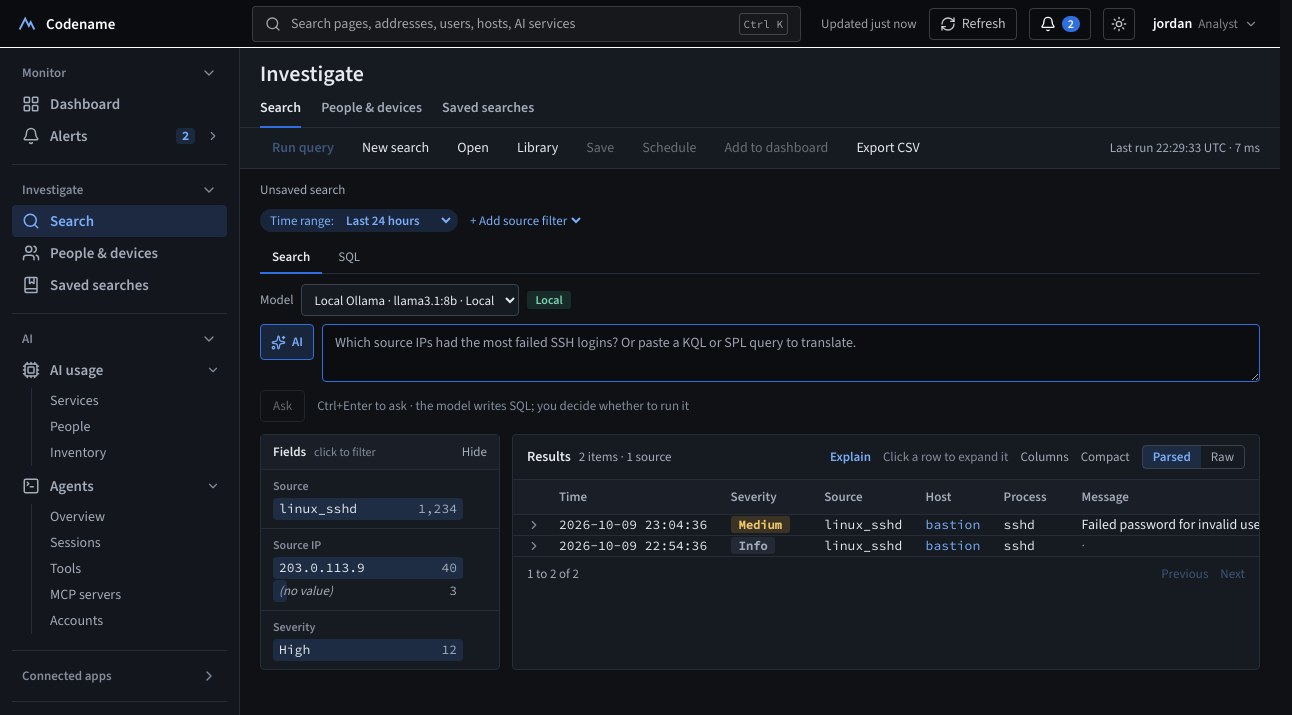
Test: Ask › explains a classification block
Select "Cloud · gpt-x · Cloud" in the dropdown labelled "Model" at (410, 300), box [302,284,520,316]
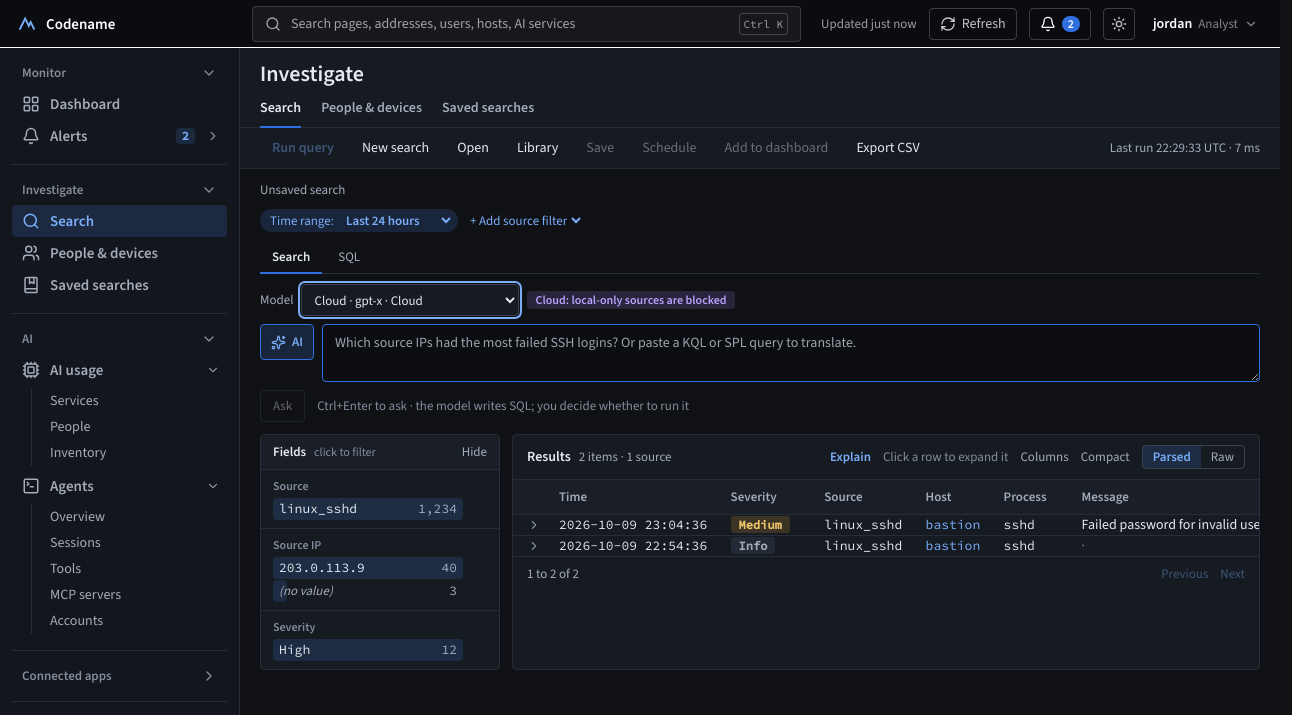
Expected: the text "Cloud: local-only sources are blocked" is shown, [528,291,735,309]
Type "failed logins" into the text box named "Question" at (791, 353), box [322,324,1260,382]
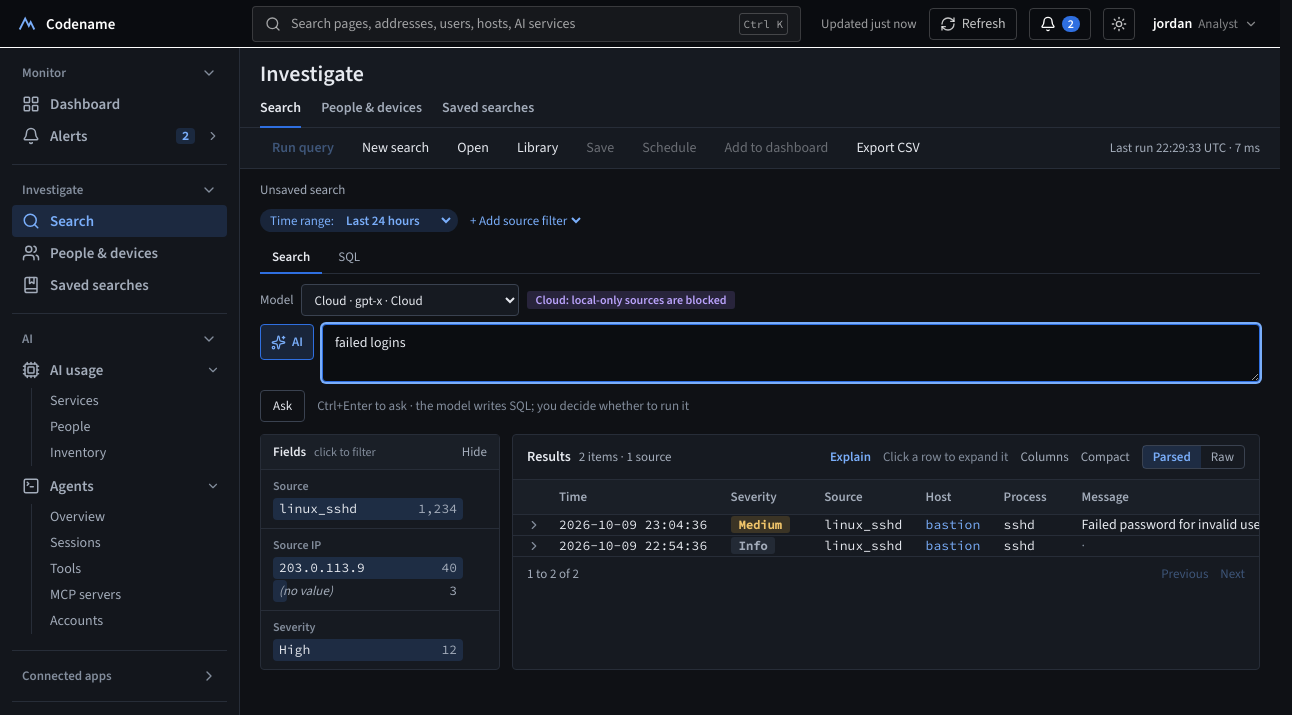
Click the button "Ask" at (283, 406), box [260,390,305,422]
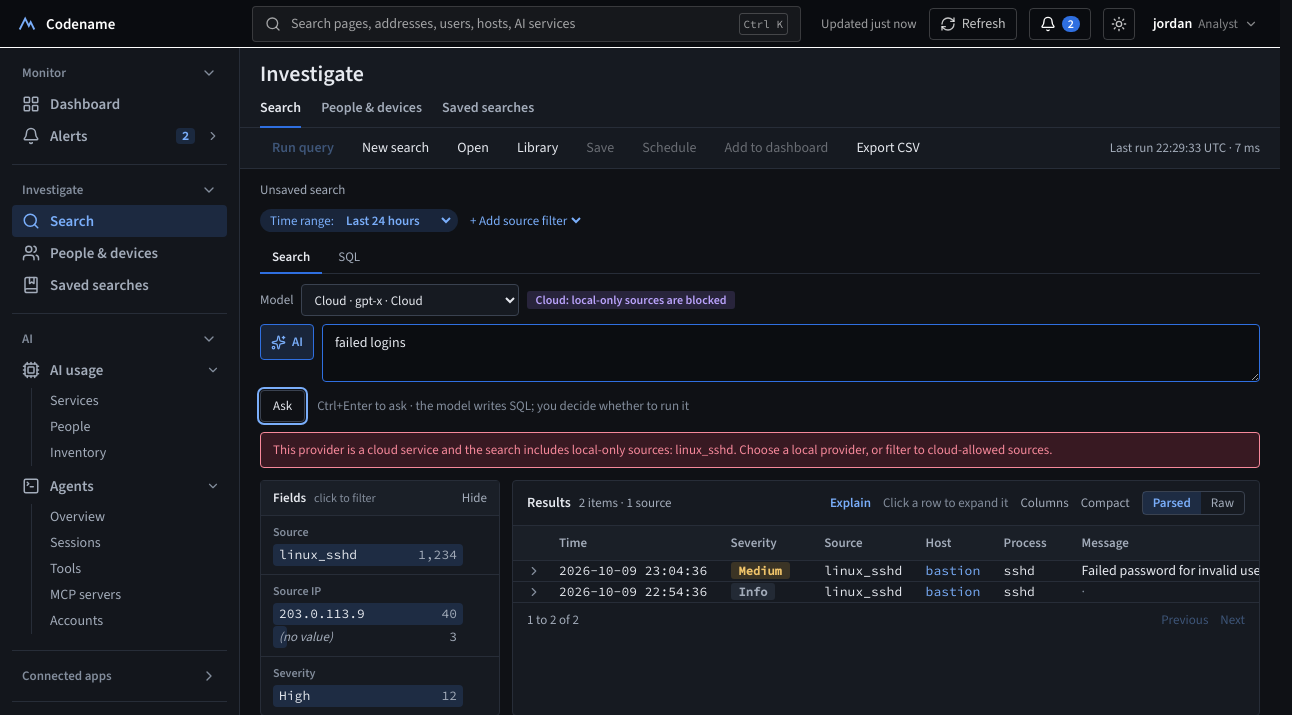
Expected: the message shows "local-only sources: linux_sshd. Choose a local provider", [273,441,1052,458]
